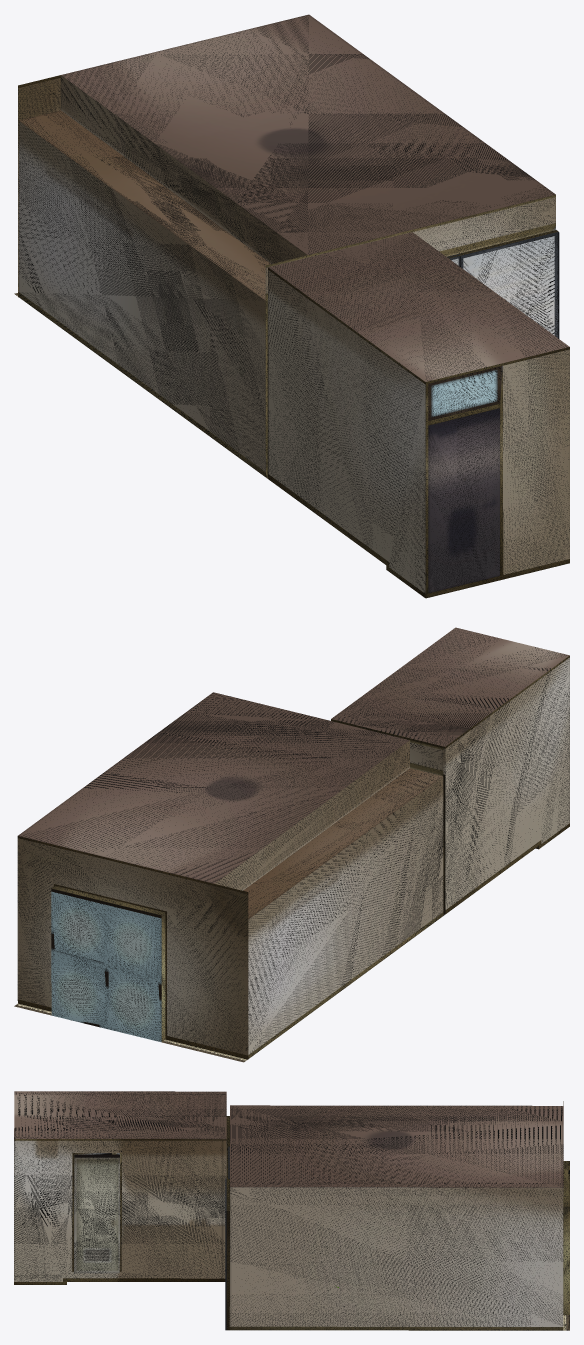
3 views of the same model, one above another, from view 1: azimuth 30°, elevation 25°; view 2: azimuth 150°, elevation 25°; view 3: azimuth 270°, elevation 25° (orthographic). The views are drawn at different scales.
Visible parts, largest first — view 1: skpEF1 (×3); view 2: skpEF1 (×2); view 3: skpEF1 (×2).
Part boxes in pixels (x1=…): skpEF1 (×3): x1=14, y1=14, x2=569, y2=598; skpEF1 (×2): x1=14, y1=627, x2=569, y2=1062; skpEF1 (×2): x1=14, y1=1091, x2=569, y2=1330.
Size of the model in its own units: 2102 by 5113 by 1482.
